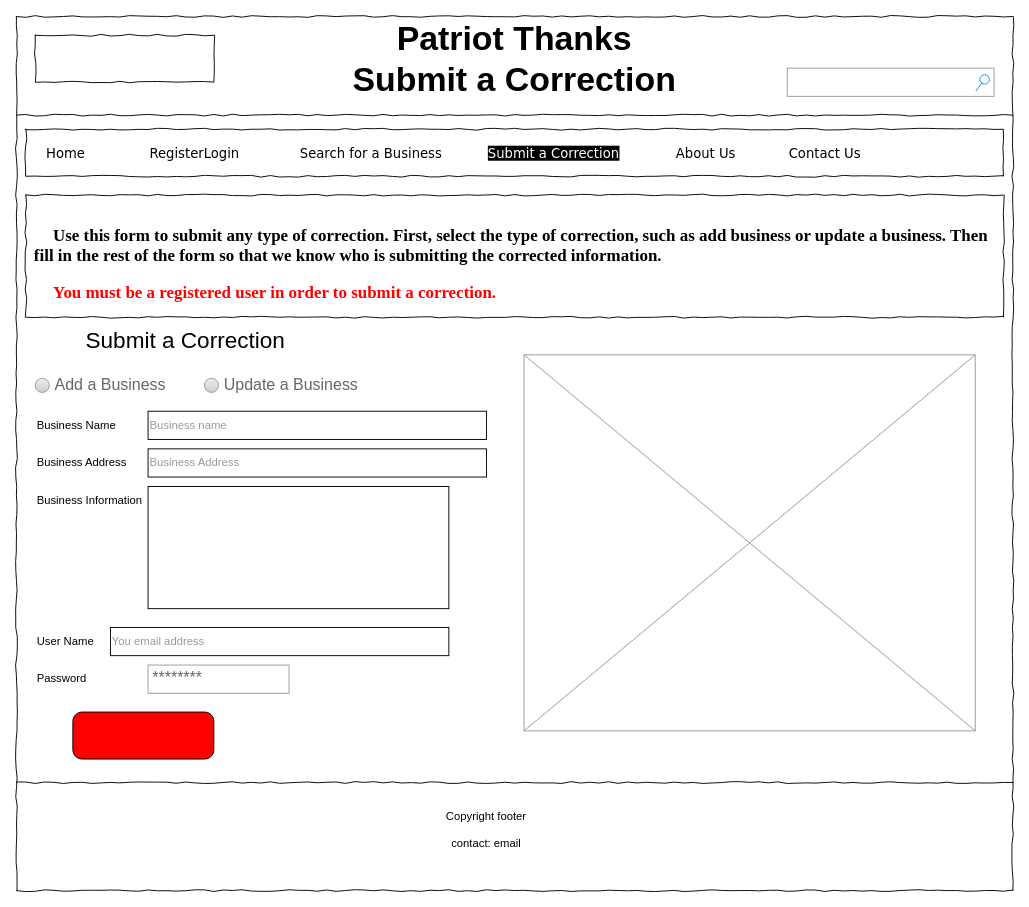
This 1029x907 diagram has some shape labels left out. Here are the shapes that lost their labels. From the top down, the centre of each, then its label:
the point at 124,58: LOGO
the point at 890,81: Search
the point at 298,547: Place information about discounts/incentives, and who qualifies for them.
the point at 143,735: Submit
